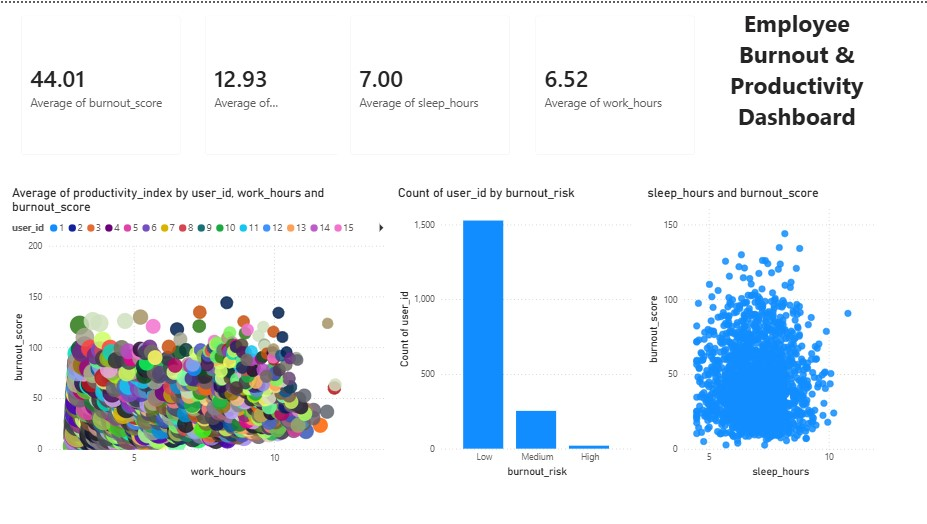

Layout of this report page (visuals, bound fields, positions):
{"tool":"powerbi","page":{"name":"Page 1","canvas":[1280,720],"ordinal":0},"visuals":[{"type":"cardVisual","fields":{"Data":["Avg(burnout_dashboard_data.burnout_score)"]},"box":[10.9,0,254.5,226.2],"z":0},{"type":"cardVisual","fields":{"Data":["Avg(burnout_dashboard_data.productivity_index)"]},"box":[265.4,0,254.5,226.2],"z":1},{"type":"cardVisual","fields":{"Data":["Avg(burnout_dashboard_data.sleep_hours)"]},"box":[465.5,0,254.5,226.2],"z":2},{"type":"cardVisual","fields":{"Data":["Avg(burnout_dashboard_data.work_hours)"]},"box":[720,0,254.5,226.2],"z":3},{"type":"scatterChart","fields":{"X":["burnout_dashboard_data.work_hours"],"Y":["burnout_dashboard_data.burnout_score"],"Size":["Avg(burnout_dashboard_data.productivity_index)"],"Series":["burnout_dashboard_data.user_id"]},"box":[10.9,252.3,532.9,406.8],"z":4},{"type":"clusteredColumnChart","fields":{"Category":["burnout_dashboard_data.burnout_risk"],"Y":["CountNonNull(burnout_dashboard_data.user_id)"]},"box":[543.8,252.3,332.8,406.8],"z":5},{"type":"scatterChart","fields":{"X":["burnout_dashboard_data.sleep_hours"],"Y":["burnout_dashboard_data.burnout_score"]},"box":[887,252,333,407],"z":6},{"type":"textbox","box":[975,0,245,226],"z":7}]}

Visuals, with their boxes in screenshot pixels (x1, y1, x2, y2), scaled from the page's 1280x720 canvas onto the 927x524 screenshot:
cardVisual - Avg(burnout_dashboard_data.burnout_score): x1=8, y1=0, x2=192, y2=165
cardVisual - Avg(burnout_dashboard_data.productivity_index): x1=192, y1=0, x2=377, y2=165
cardVisual - Avg(burnout_dashboard_data.sleep_hours): x1=337, y1=0, x2=521, y2=165
cardVisual - Avg(burnout_dashboard_data.work_hours): x1=521, y1=0, x2=706, y2=165
scatterChart - burnout_dashboard_data.work_hours x burnout_dashboard_data.burnout_score: x1=8, y1=184, x2=394, y2=480
clusteredColumnChart - burnout_dashboard_data.burnout_risk x CountNonNull(burnout_dashboard_data.user_id): x1=394, y1=184, x2=635, y2=480
scatterChart - burnout_dashboard_data.sleep_hours x burnout_dashboard_data.burnout_score: x1=642, y1=183, x2=884, y2=480
textbox: x1=706, y1=0, x2=884, y2=164
